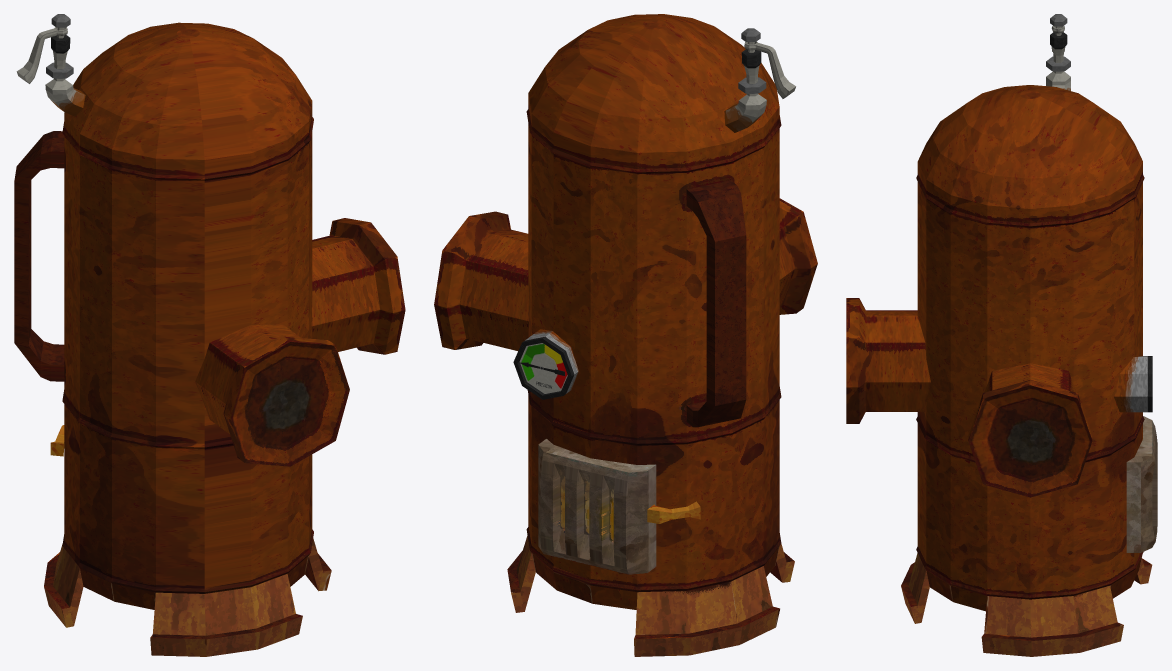
The model's file is boiler_solo.fbx.
3 views of the same model, side by side, from view 1: azimuth 30°, elevation 25°; view 2: azimuth 150°, elevation 25°; view 3: azimuth 270°, elevation 25° (orthographic). The views are drawn at different scales.
Parts seen in each view (by area): view 1: Cube, Cylinder.004, Torus.001; view 2: Cube, Cylinder.005, Cylinder.004, Torus.001; view 3: Cube, Cylinder.005, Cylinder.004.
Part boxes in pixels (x1,y1,x2,y2): Cube: [14, 22, 405, 656]; Cylinder.004: [45, 14, 85, 116]; Torus.001: [16, 27, 67, 83]; Cube: [434, 14, 817, 656]; Cylinder.005: [513, 329, 578, 399]; Cylinder.004: [724, 28, 766, 132]; Torus.001: [744, 41, 795, 98]; Cube: [846, 85, 1157, 656]; Cylinder.005: [1114, 356, 1152, 412]; Cylinder.004: [1046, 14, 1070, 90].
Size of the model in its own units: 696 by 1188 by 621.
4 materials, 4 textured.
